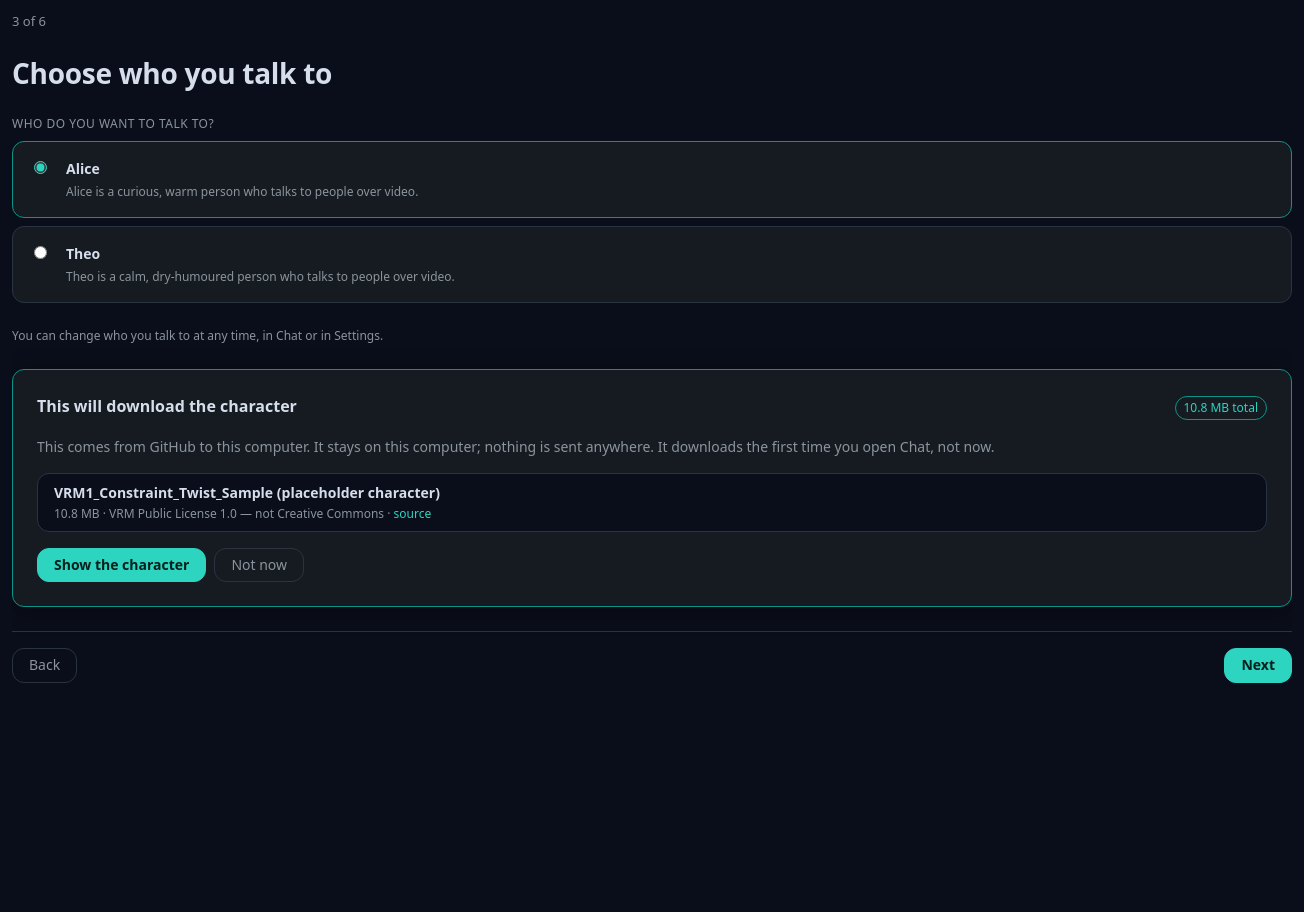
Test: Wizard — the character step and the body consent › records nothing on Not now, fetches nothing, and still lets the person go on
The image size is (1304, 912).
Step 1. Click the button "Not now" → (259, 565), box [214,548,304,582]
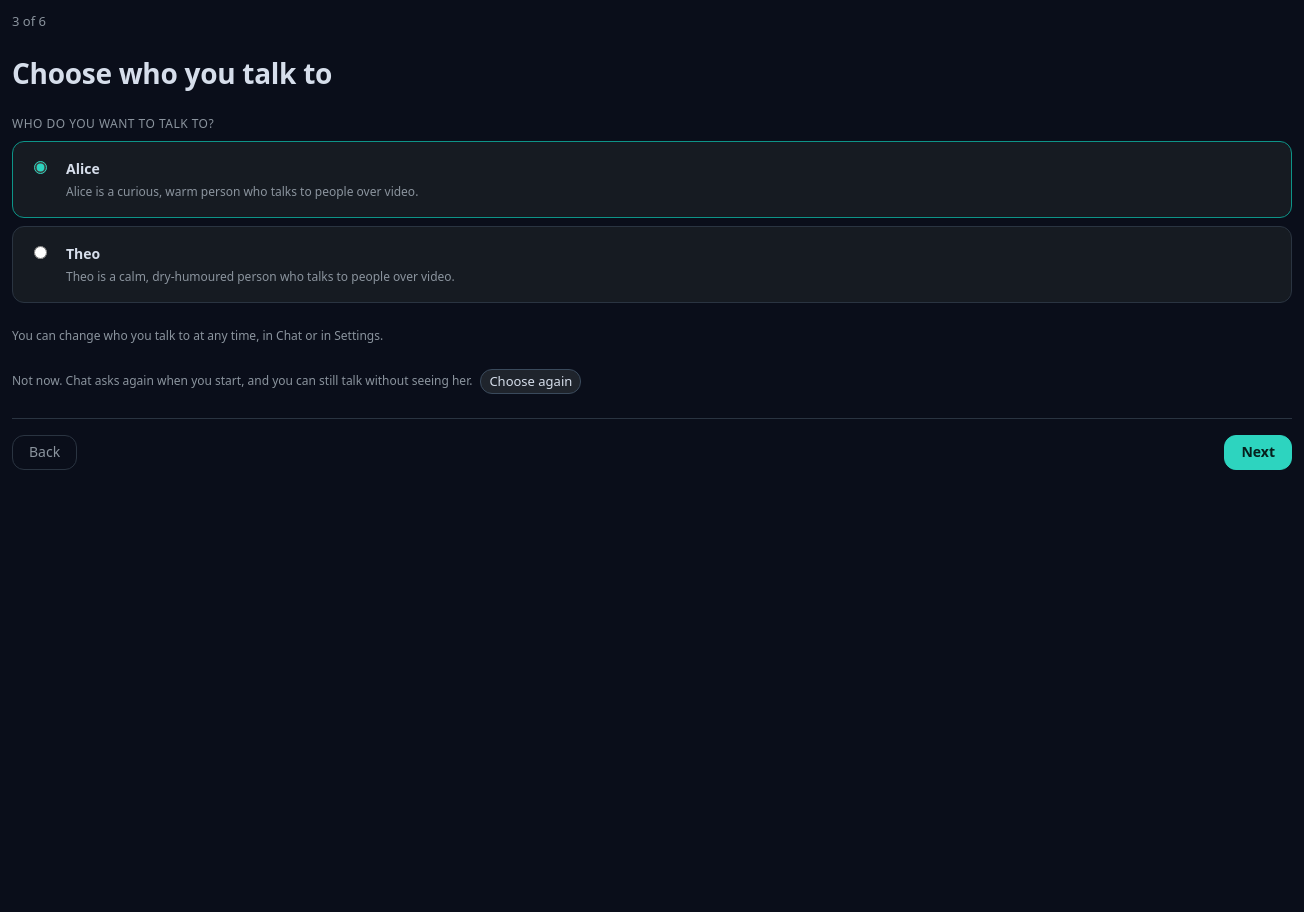
Now the text "Chat asks again" is shown, box [12,372,472,389]
Step 2. Click the button "Next" → (1258, 452), box [1224,435,1292,470]
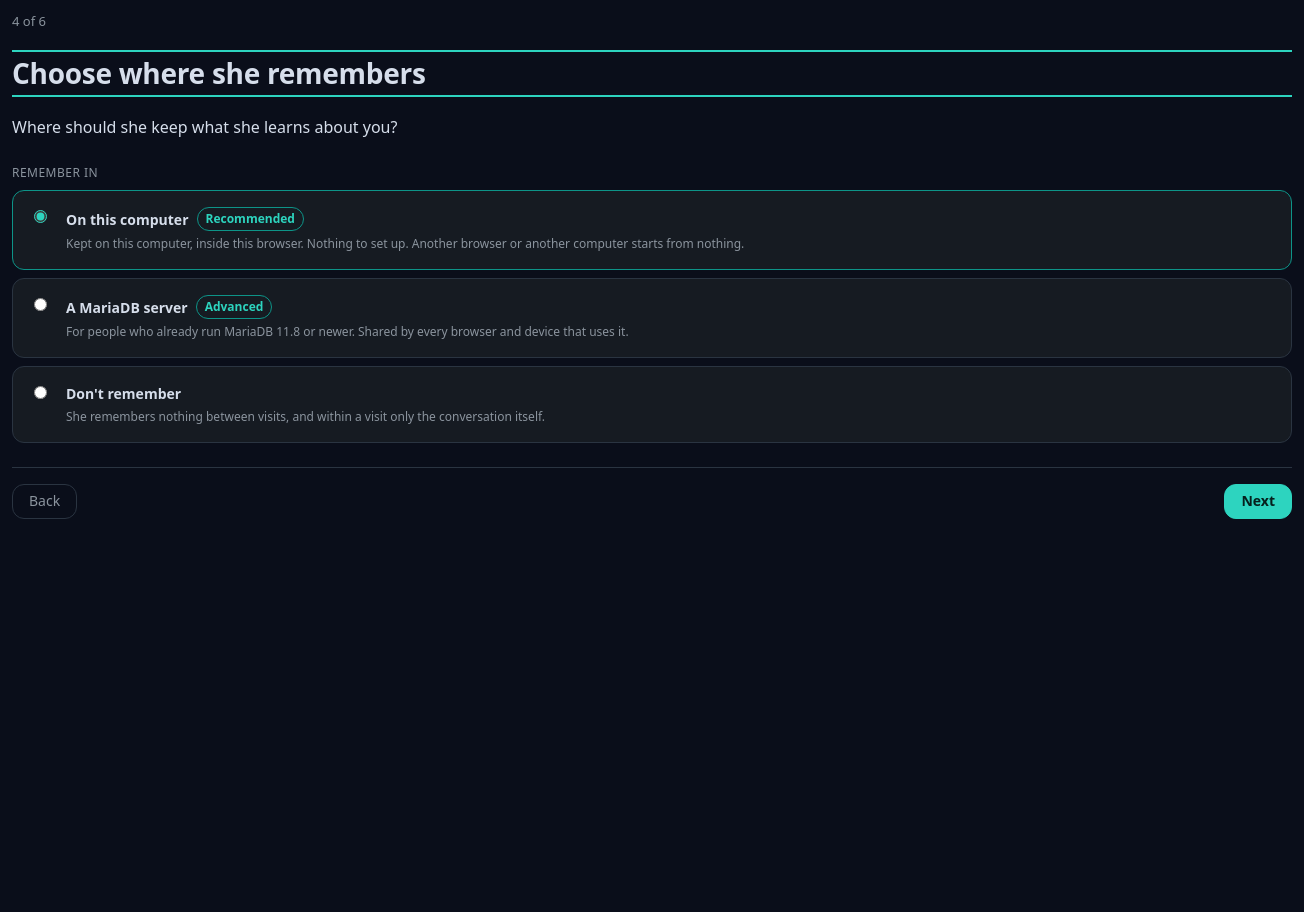
Now the heading reads "Choose where she remembers", box [12,54,426,92]
